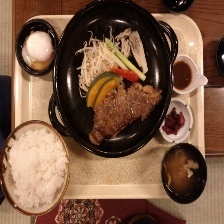rice: (3, 130, 66, 209)
